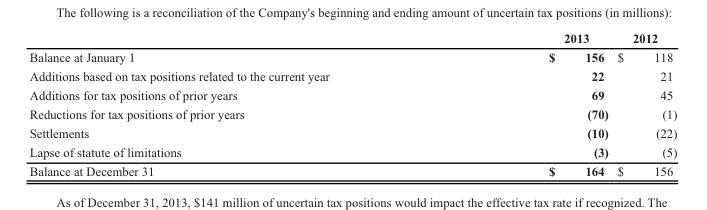table: (28, 28, 676, 179)
table column: (28, 28, 438, 179), (438, 28, 612, 179), (612, 28, 676, 179)
table column header: (28, 28, 676, 46)
table row: (28, 103, 676, 123), (28, 46, 676, 65), (28, 65, 676, 84), (28, 84, 676, 103), (28, 123, 676, 142), (28, 142, 676, 161), (28, 28, 676, 46), (28, 161, 676, 179)
